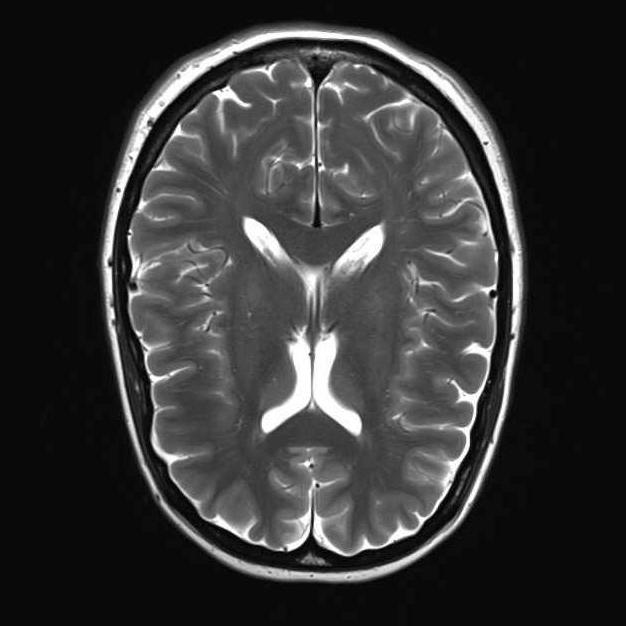Normal_Brain: (2, 1, 626, 626)
